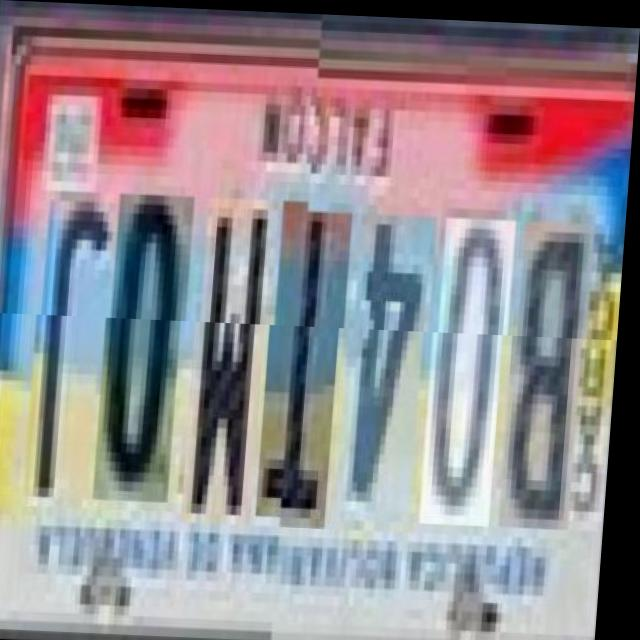4: (343, 200, 435, 510)
b: (506, 206, 595, 516)
j: (31, 199, 113, 507)
m: (188, 195, 278, 522)
o: (101, 192, 193, 502), (428, 203, 515, 513)
t: (262, 197, 352, 517)
